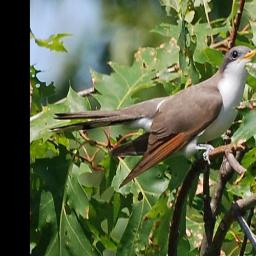Cuckoo: (48, 45, 256, 188)
